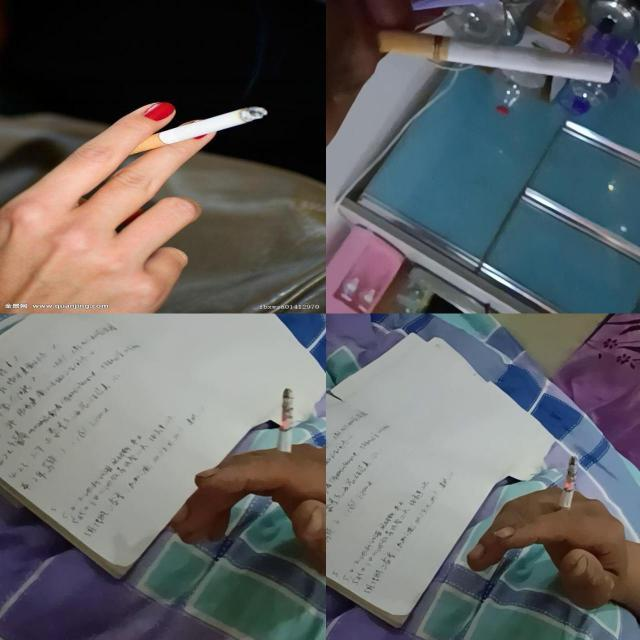cigarette: (378, 31, 616, 84), (115, 104, 269, 156), (272, 386, 296, 502), (555, 457, 578, 522)
